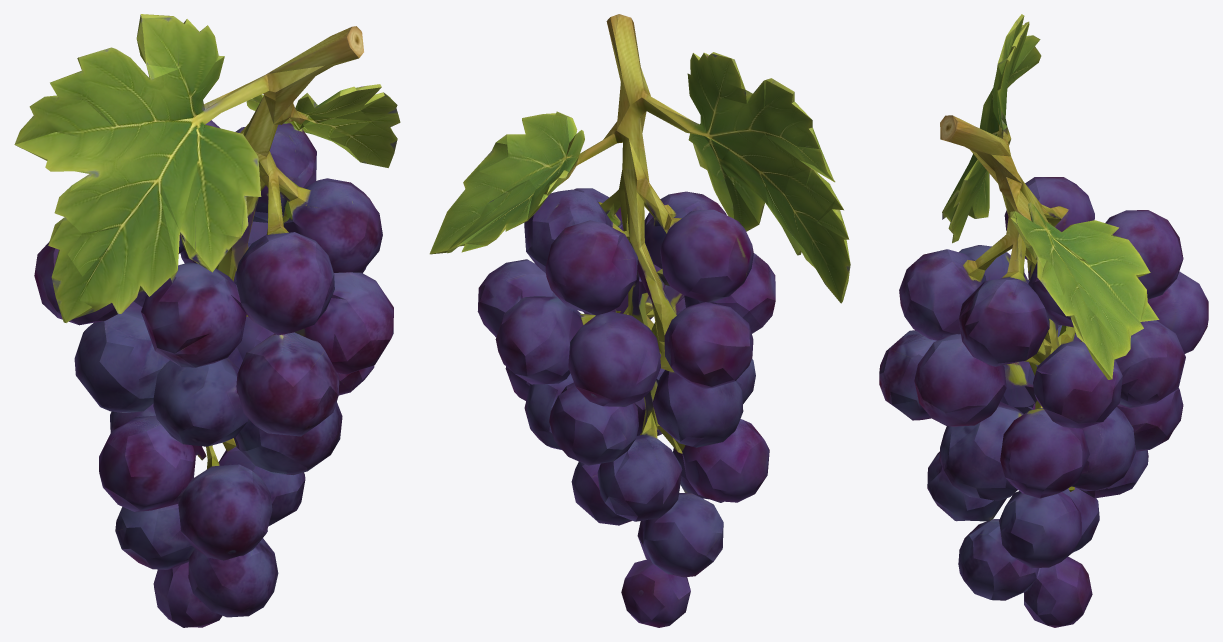
File: crop-c021.glb
The picture shows the model from 3 angles, left to right: view 1: azimuth 30°, elevation 25°; view 2: azimuth 150°, elevation 25°; view 3: azimuth 270°, elevation 25°; orthographic projection. The views are drawn at different scales.
Parts seen in each view (by area): view 1: Mesh_0; view 2: Mesh_0; view 3: Mesh_0.
Boxes of the visible parts, left/top/right/bottom form: Mesh_0: left=14, top=14, right=400, bottom=627; Mesh_0: left=429, top=14, right=850, bottom=627; Mesh_0: left=879, top=14, right=1208, bottom=627.
Bounding box in the file's own units: 0.1693 × 0.25 × 0.1305.
Materials: 1 (1 with a texture image).
